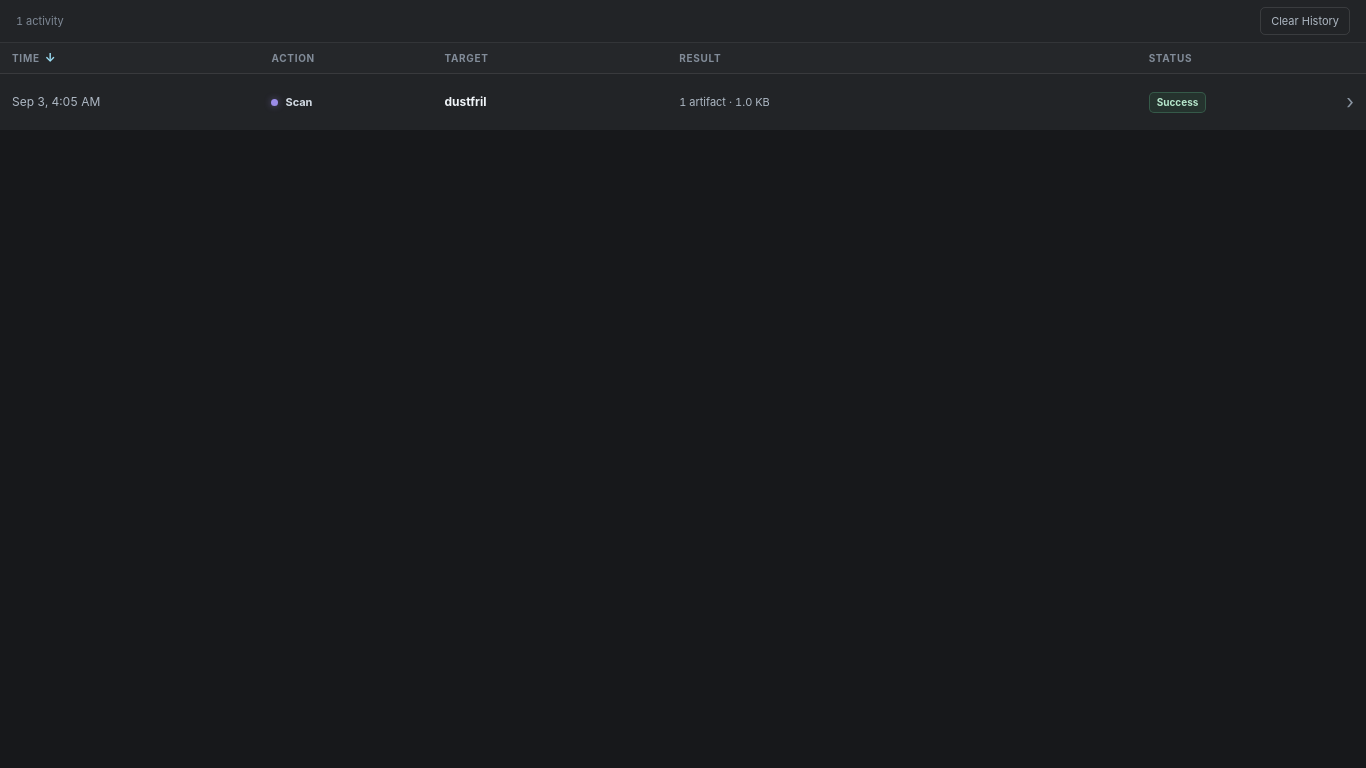
Scenario: HistoryView › requires confirmation and keeps records when clearing is cancelled
Click the button "Clear History" at coordinates (1305, 21), box [1260,7,1350,35]
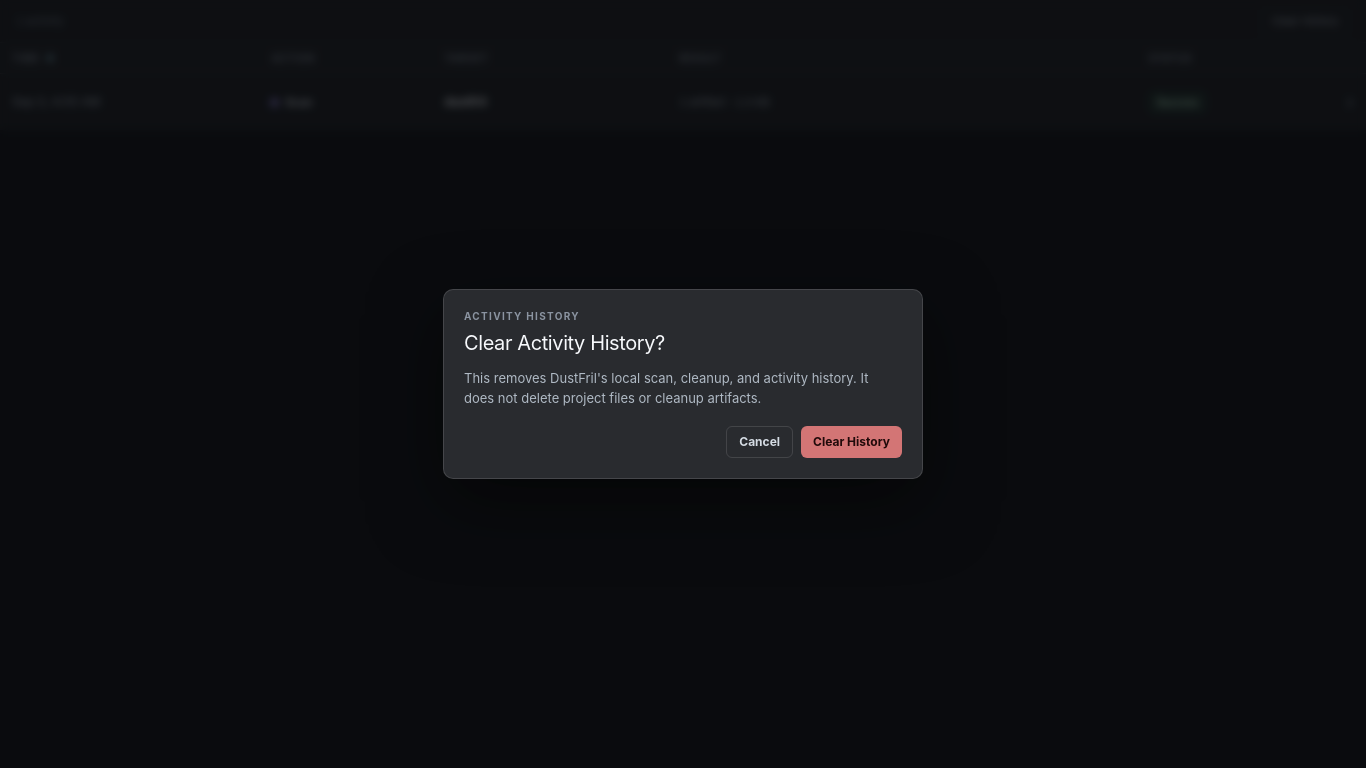
Check: the heading "Clear Activity History?" is shown, box [464,331,665,355]
Check: the text "It does not delete project files" is shown, box [464,370,868,406]
Click the button "Cancel" at coordinates (760, 442), box [726,426,793,458]
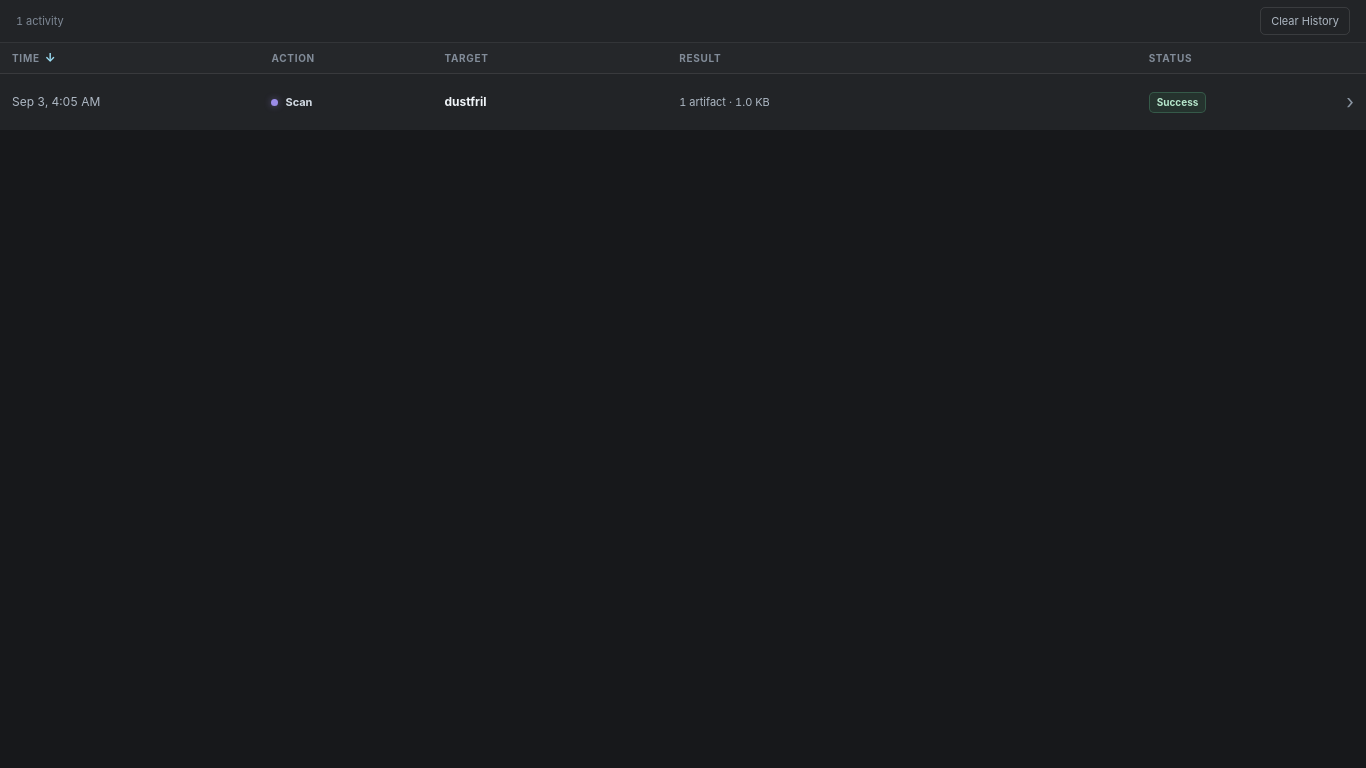
Check: the text "dustfril" is shown, box [444,94,486,109]
Check: the heading "Clear Activity History?" is gone
